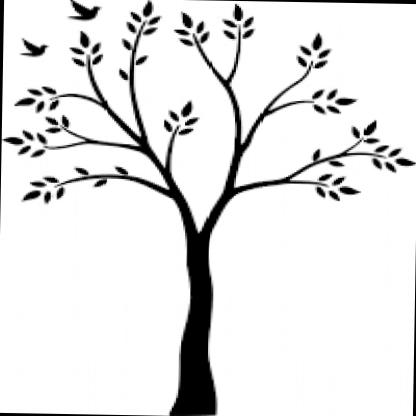trunk_reflex: (175, 246, 218, 392)
